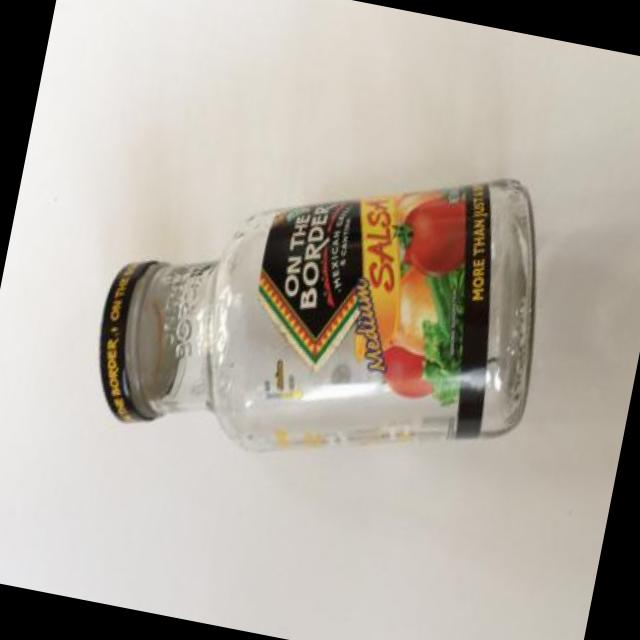chai_thuy_tinh: (98, 179, 538, 457)
